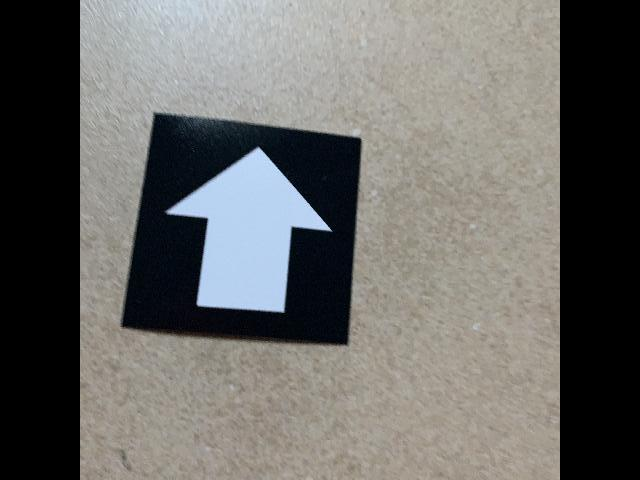up_arrow: (116, 109, 363, 348)
